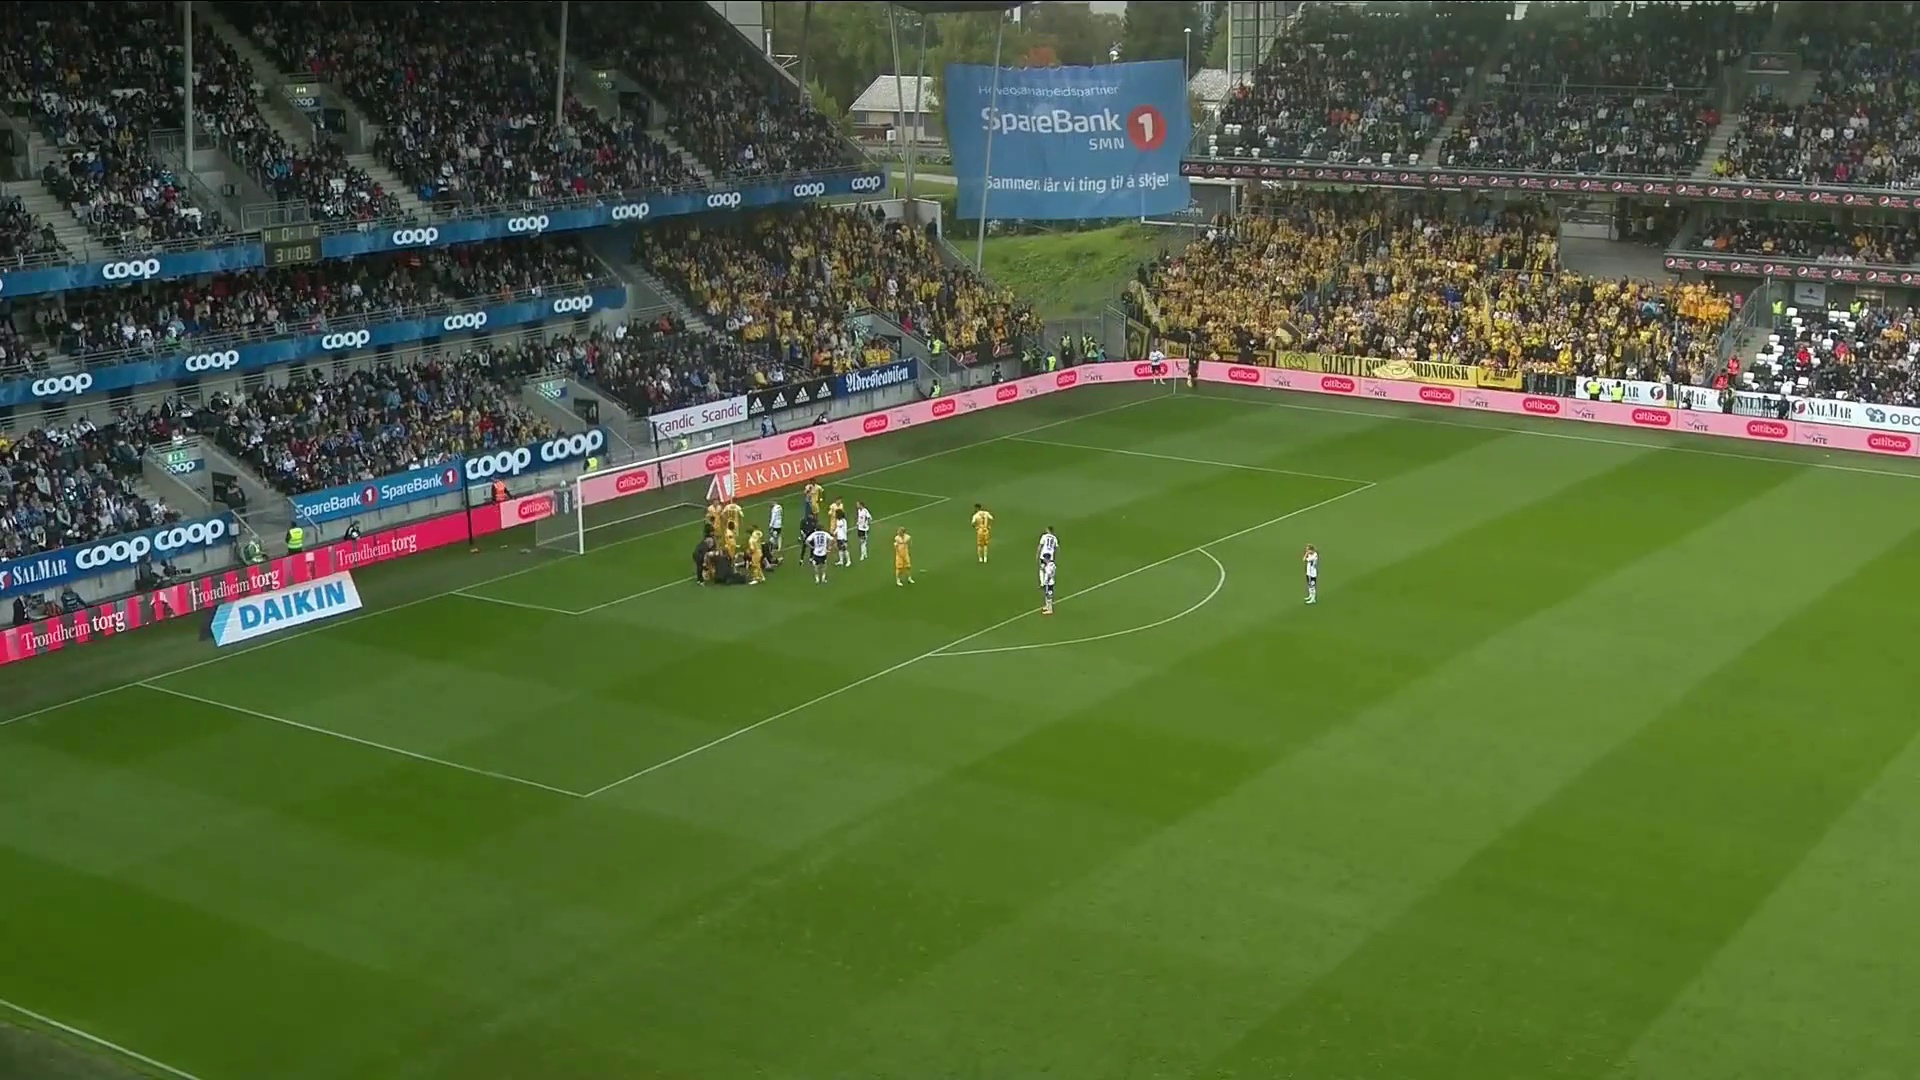player: (703, 496, 725, 583), (806, 521, 834, 584), (692, 524, 720, 587), (721, 497, 745, 564), (704, 496, 727, 565), (893, 526, 918, 587), (743, 524, 767, 585), (971, 502, 994, 563), (832, 510, 852, 568), (798, 513, 819, 568), (798, 490, 820, 542), (854, 500, 872, 561), (1302, 543, 1319, 604), (1036, 525, 1060, 568), (1040, 556, 1057, 615), (805, 478, 825, 526), (827, 495, 848, 540), (768, 501, 784, 551), (1148, 345, 1167, 385), (1186, 348, 1200, 388)
